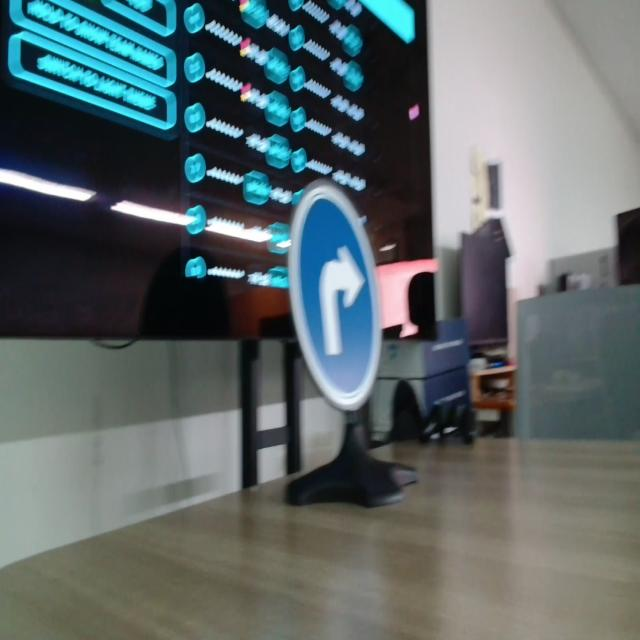right_dierection: (286, 174, 384, 403)
